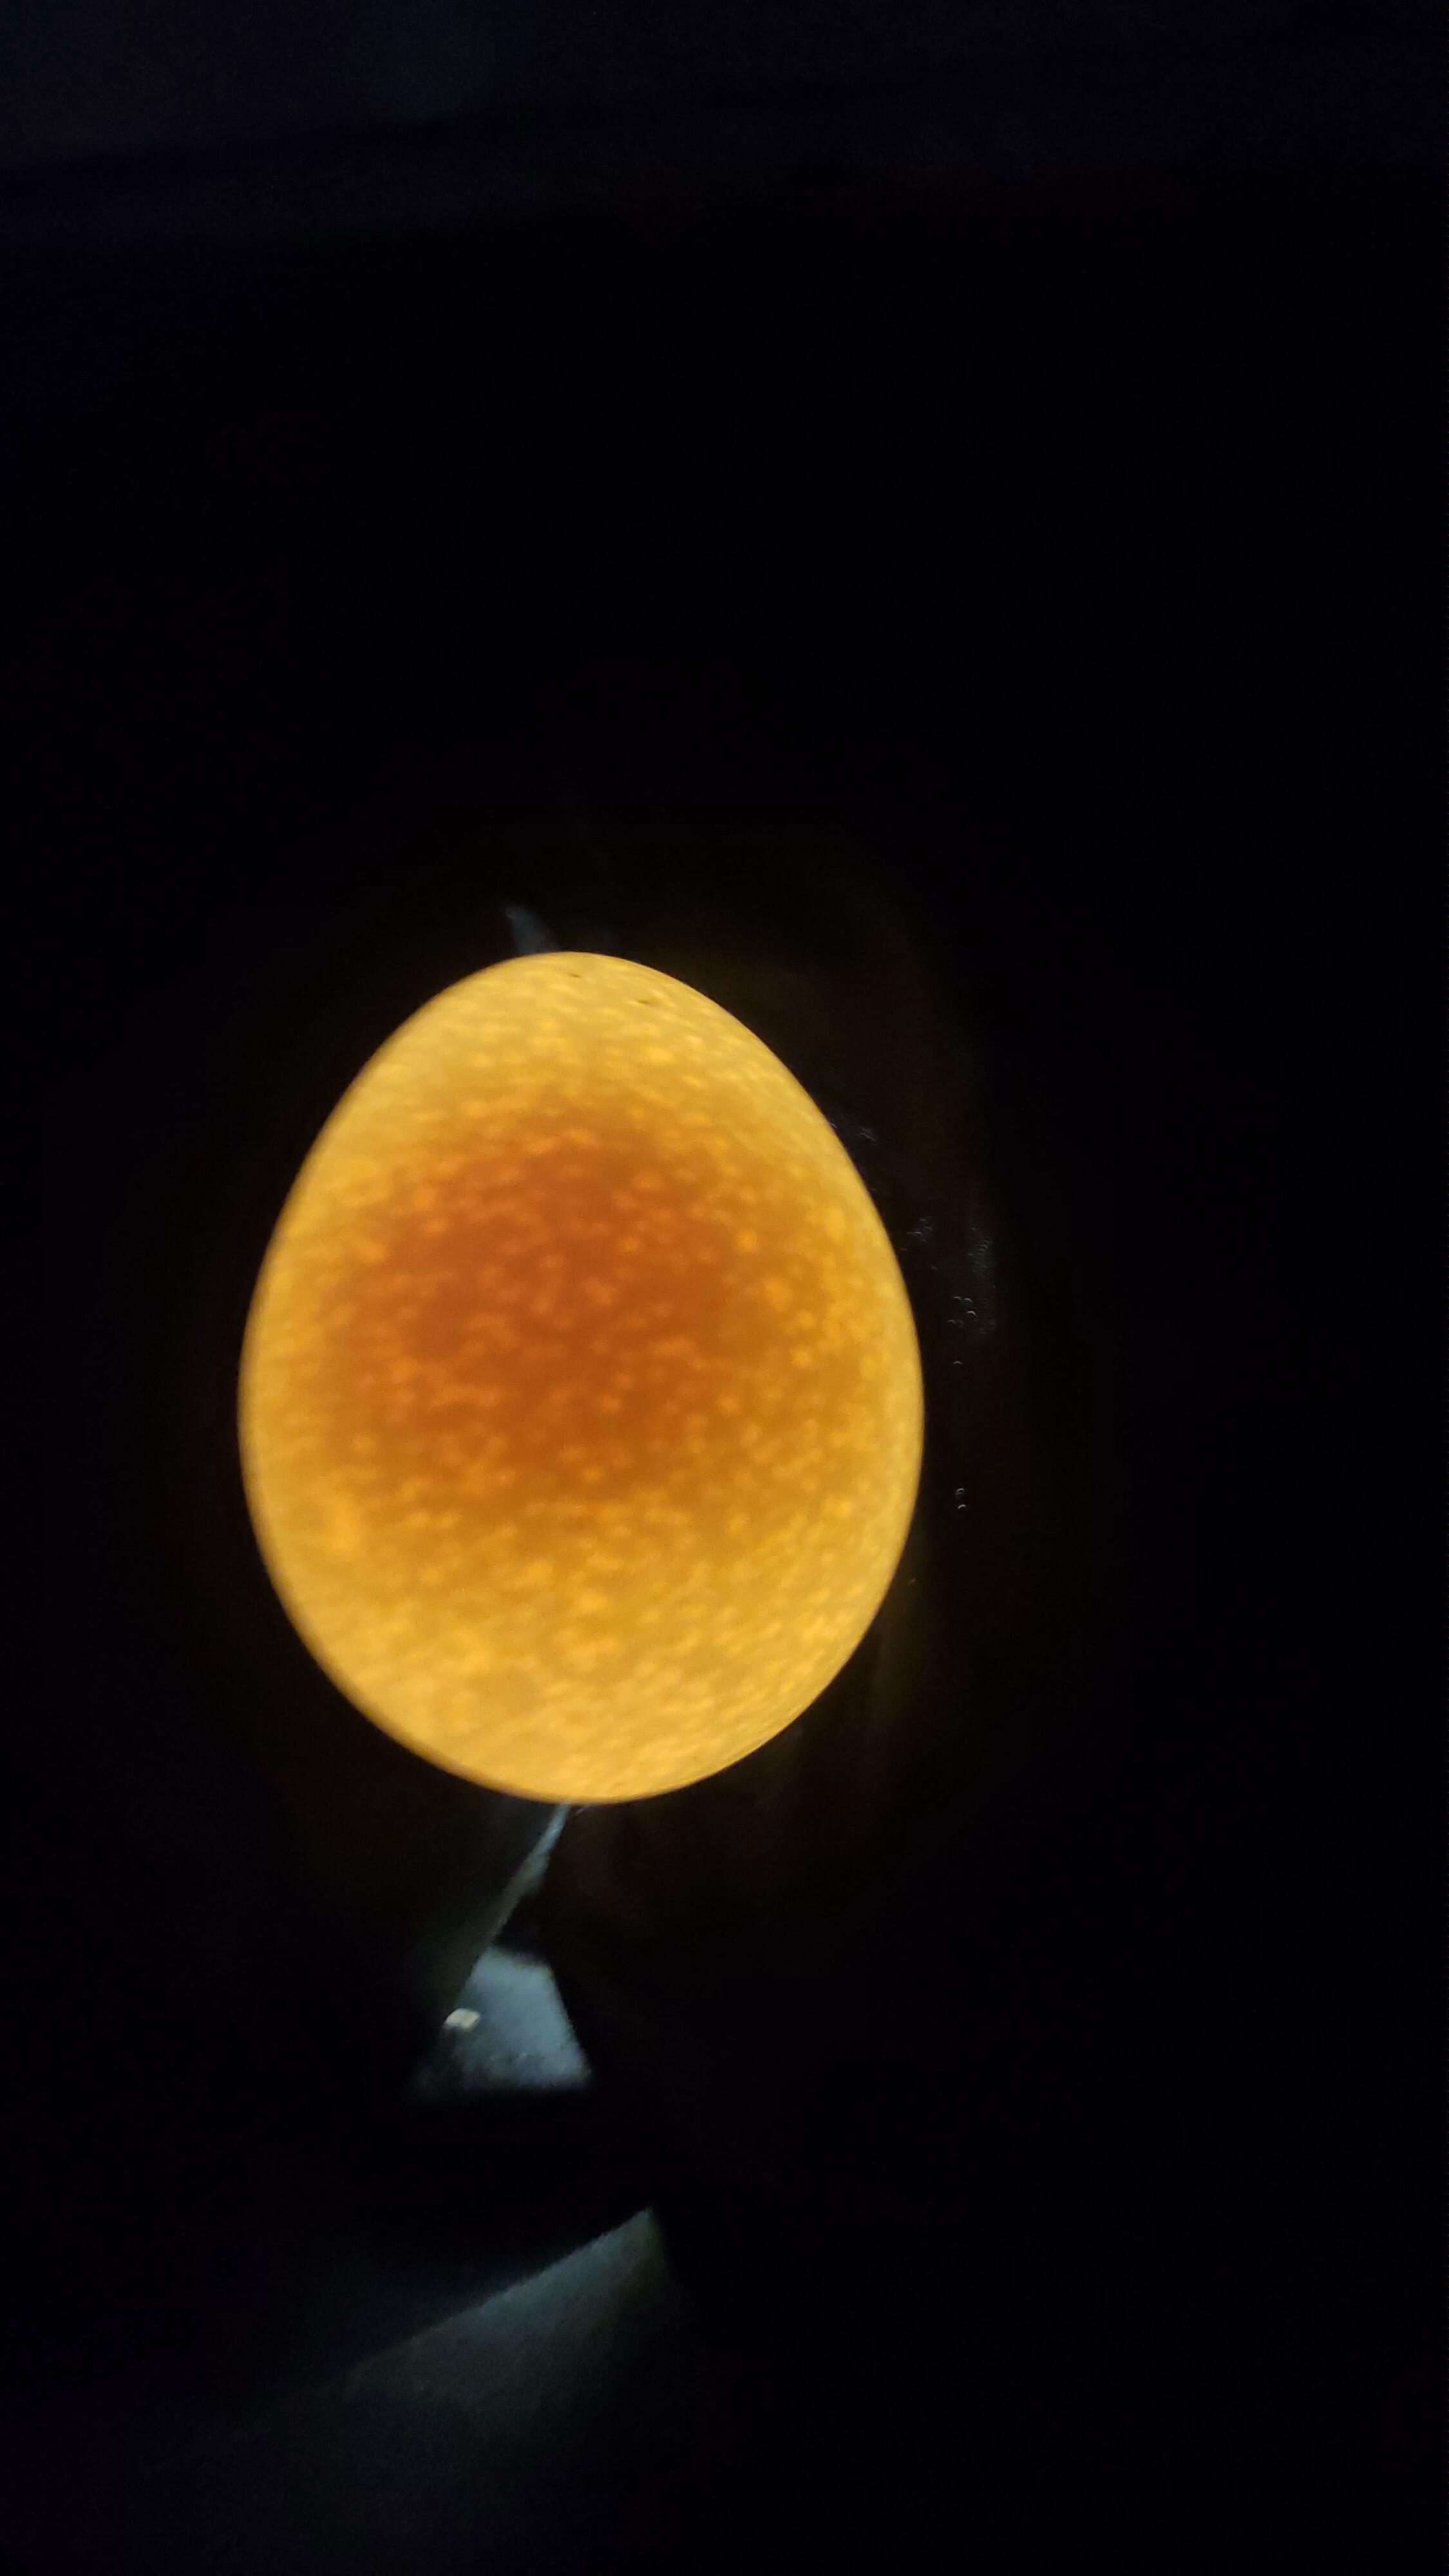A - Good: (193, 915, 927, 1842)
